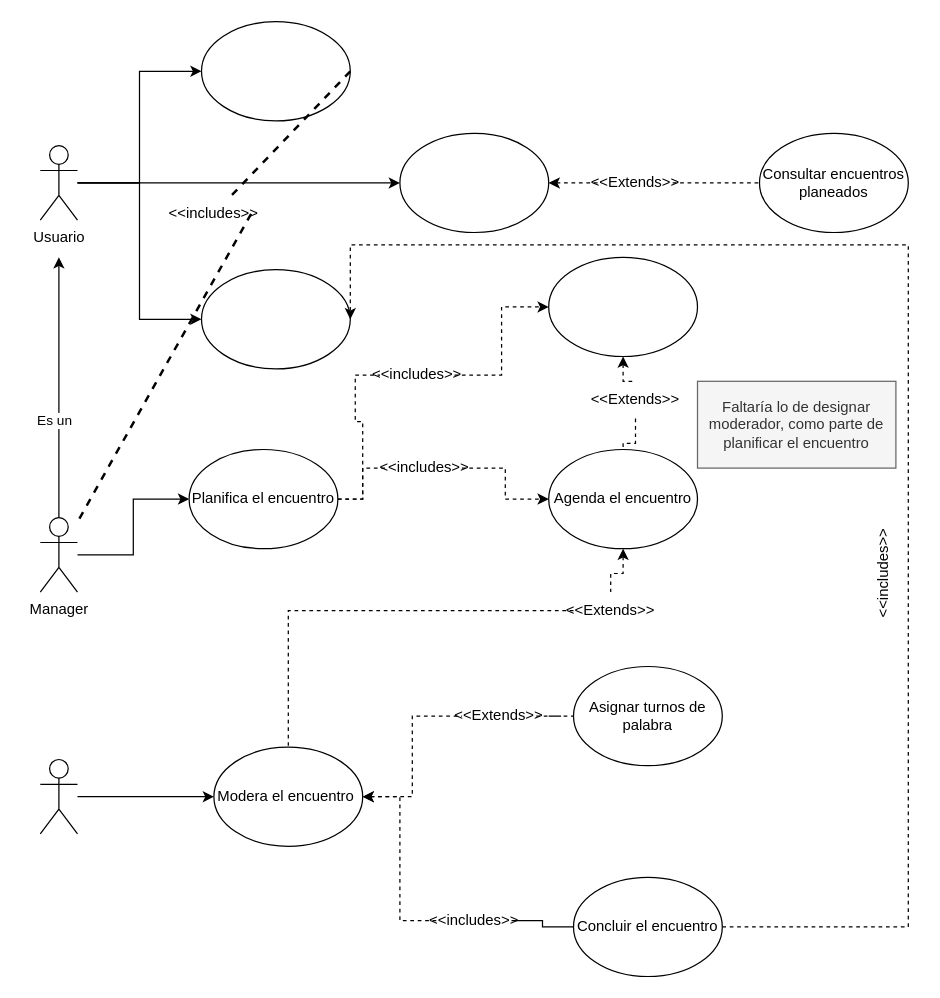
The diagram is 940 pixels wide and 998 high, and some of its shapes have lost their labels. The centre of each missing label's shape, as x and y in pixels:
Consultar el estado del sistema: point (474, 182)
Entrar al encuentro: point (275, 70)
Moderador: point (58, 796)
Nombra el encuentro: point (622, 306)
Salir del encuentro: point (275, 318)
